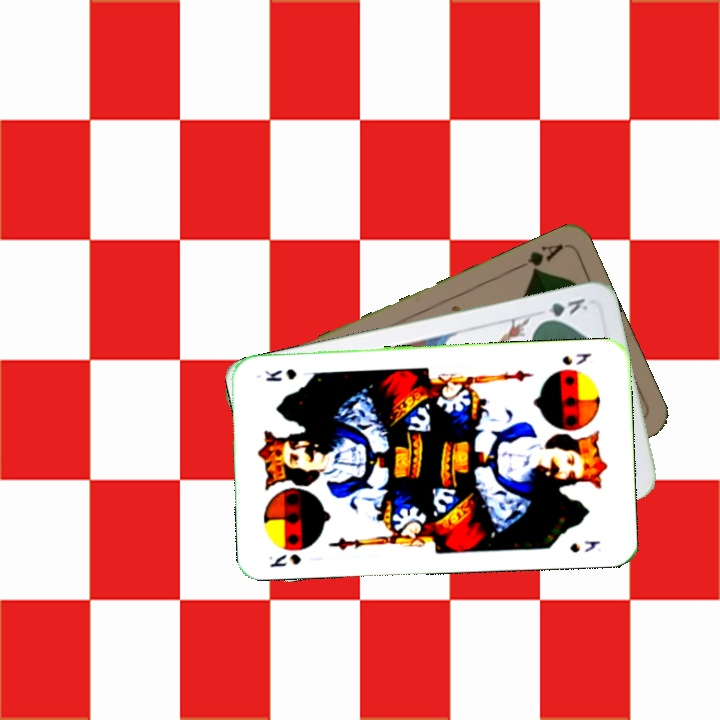GA: (510, 239, 566, 277)
GK: (535, 294, 591, 325)
SK: (265, 550, 303, 570), (558, 349, 594, 368)
